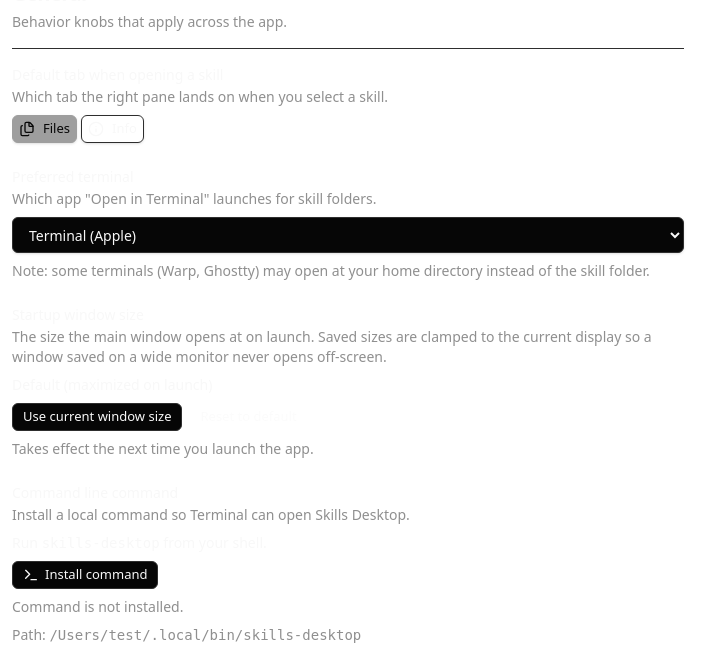
Settings → General command line command › installs the command and switches the action to removal
What coordinates should you click on to do the following:
click the button "Install command"
I would click on:
 (85, 575)
Its box is [12, 561, 158, 589].
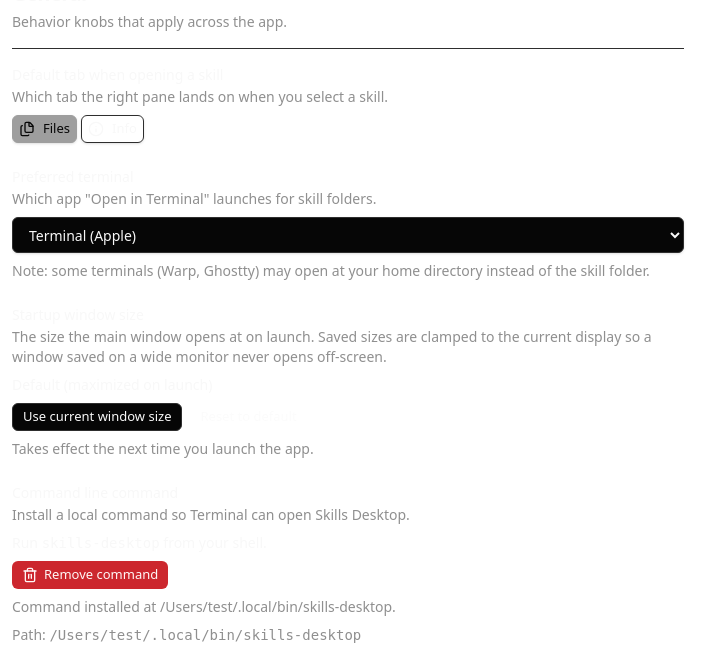
Expected: the button "Remove command" is shown, [12, 561, 168, 589]
